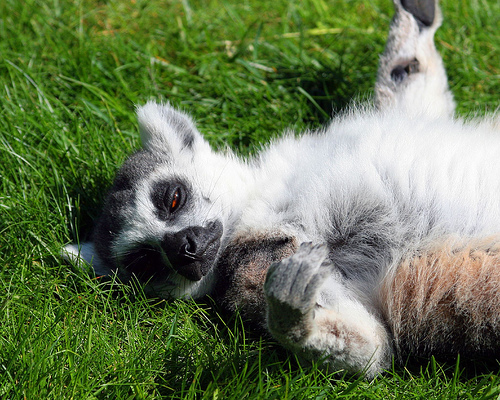cat: (55, 4, 497, 381)
